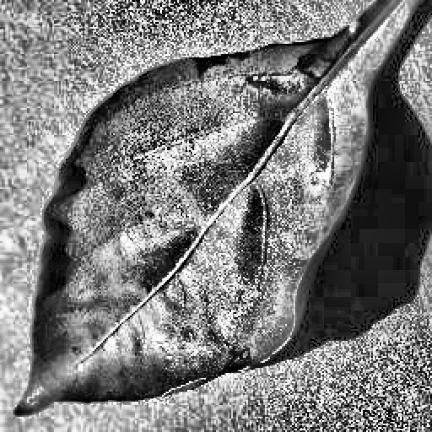leaf: (17, 0, 420, 412)
